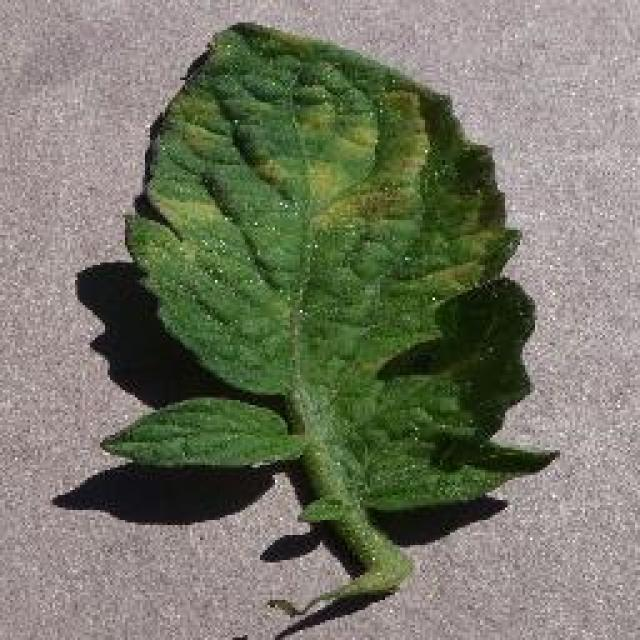Tomato___Leaf_Mold: (102, 21, 560, 615)
